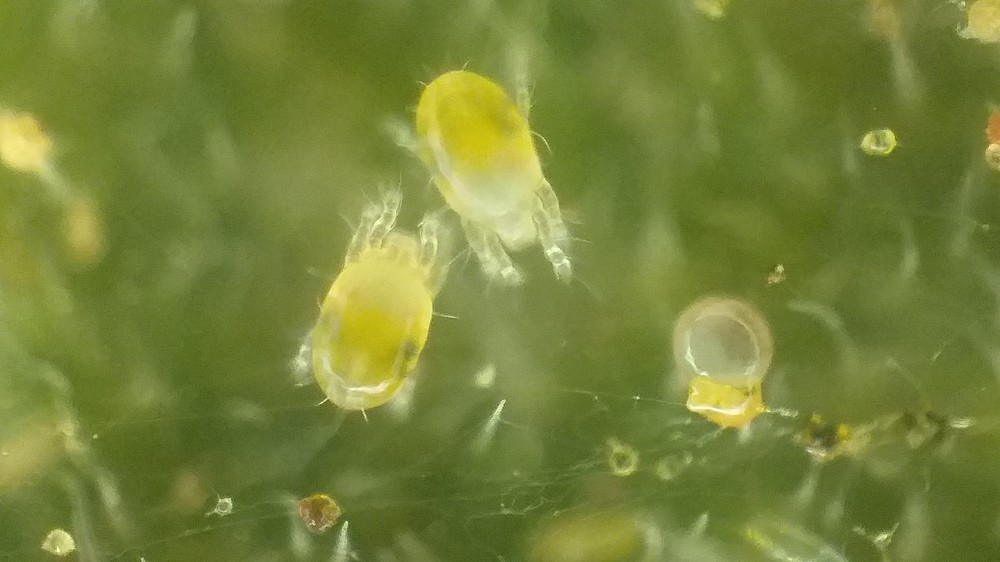Aracnido Rojo: (391, 49, 600, 299), (281, 182, 458, 420)
